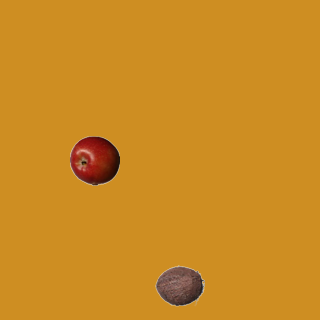Apple Braeburn: (69, 135, 119, 185)
Cocos: (154, 260, 204, 310)
